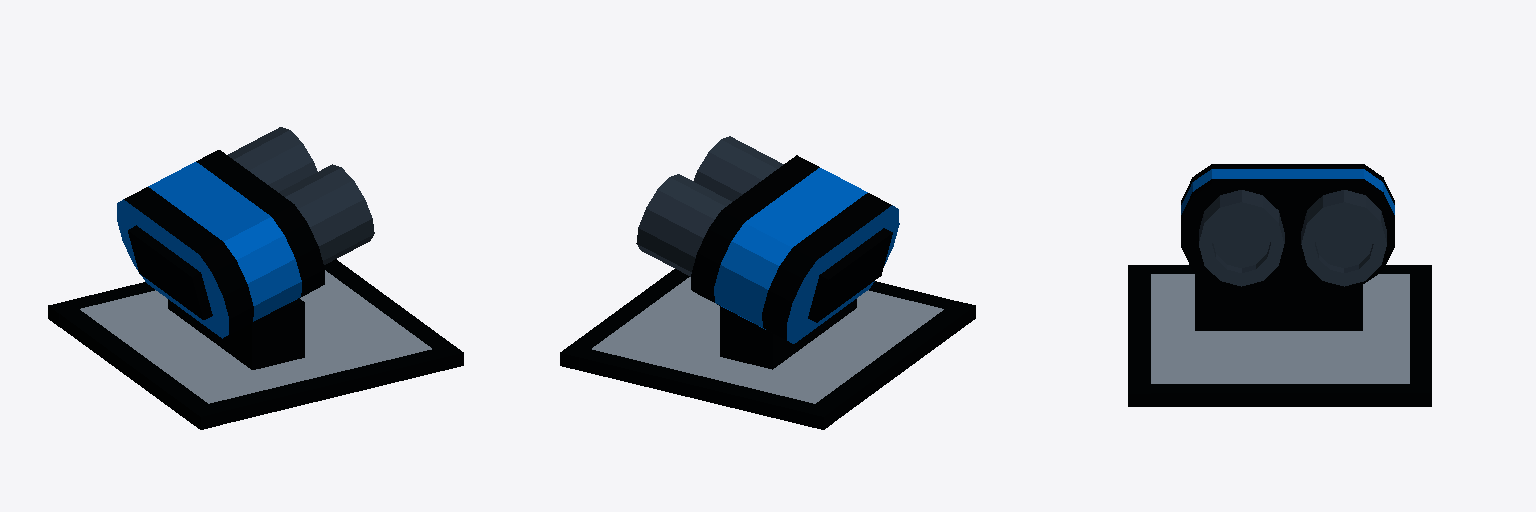
The model's file is rocket.obj.
The picture shows the model from 3 angles: view 1: azimuth 30°, elevation 25°; view 2: azimuth 150°, elevation 25°; view 3: azimuth 270°, elevation 25°; orthographic projection.
Visible parts, largest first — view 1: Cube; view 2: Cube; view 3: Cube.
Part boxes in pixels (bbox=[...]): Cube: bbox=[48, 127, 463, 429]; Cube: bbox=[560, 136, 975, 429]; Cube: bbox=[1128, 164, 1431, 406].
Bounding box in the file's own units: 0.7243 × 0.4532 × 0.7245.